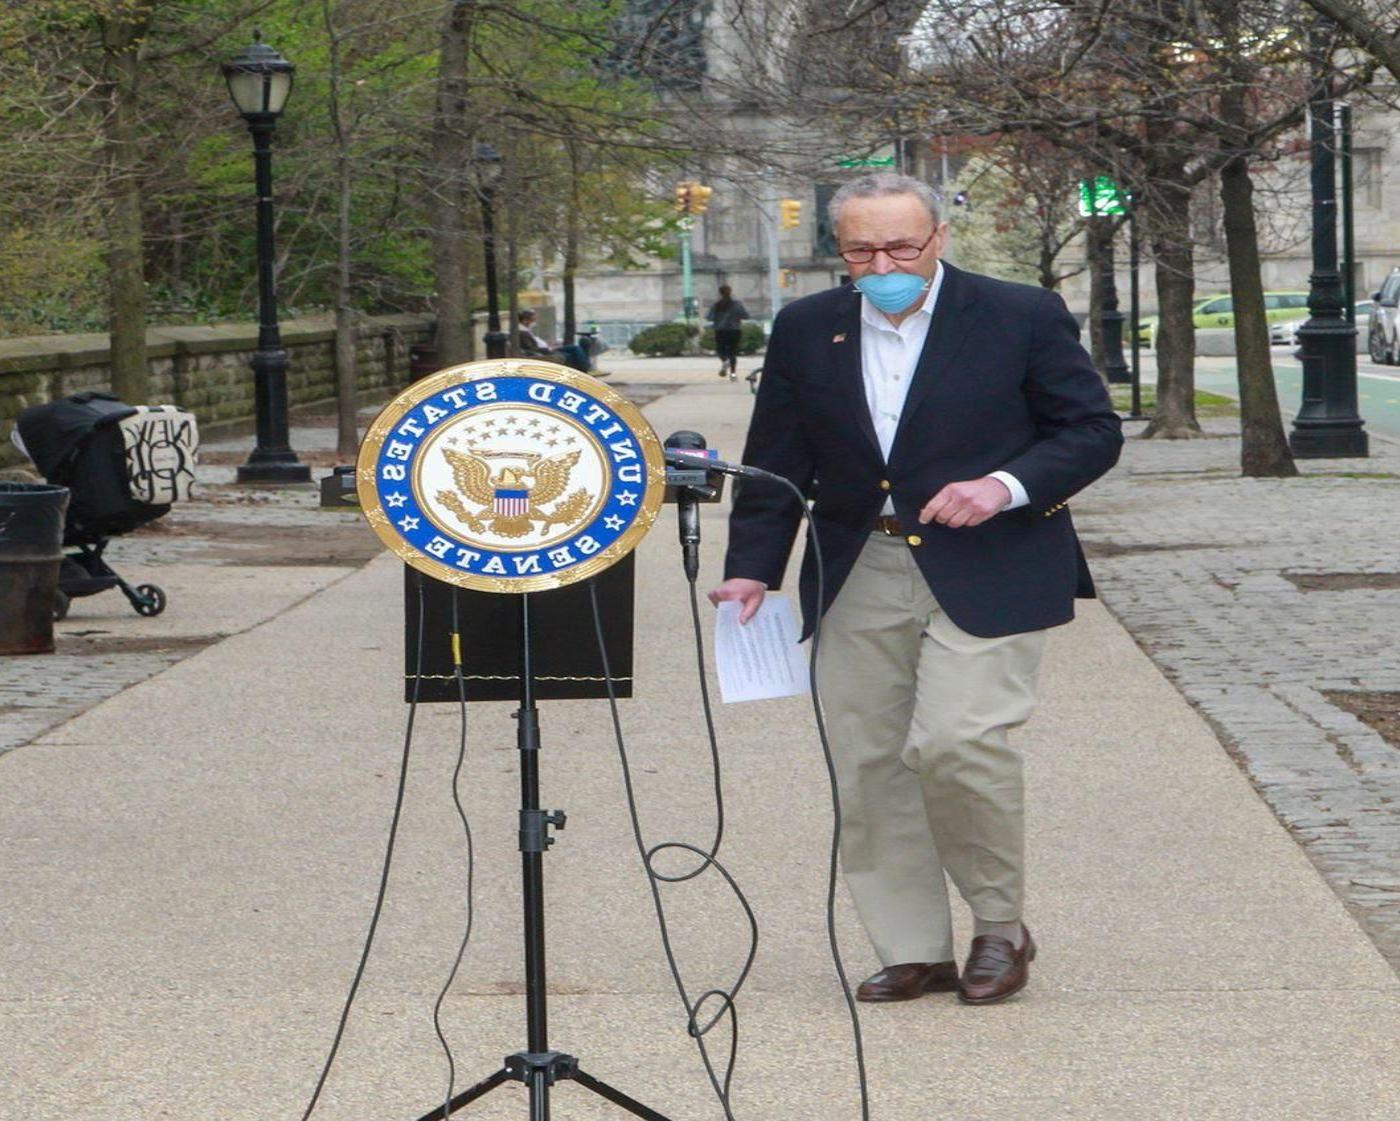mask_weared_incorrect: (825, 172, 952, 319)
